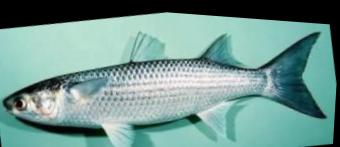fish: (3, 26, 329, 147)
